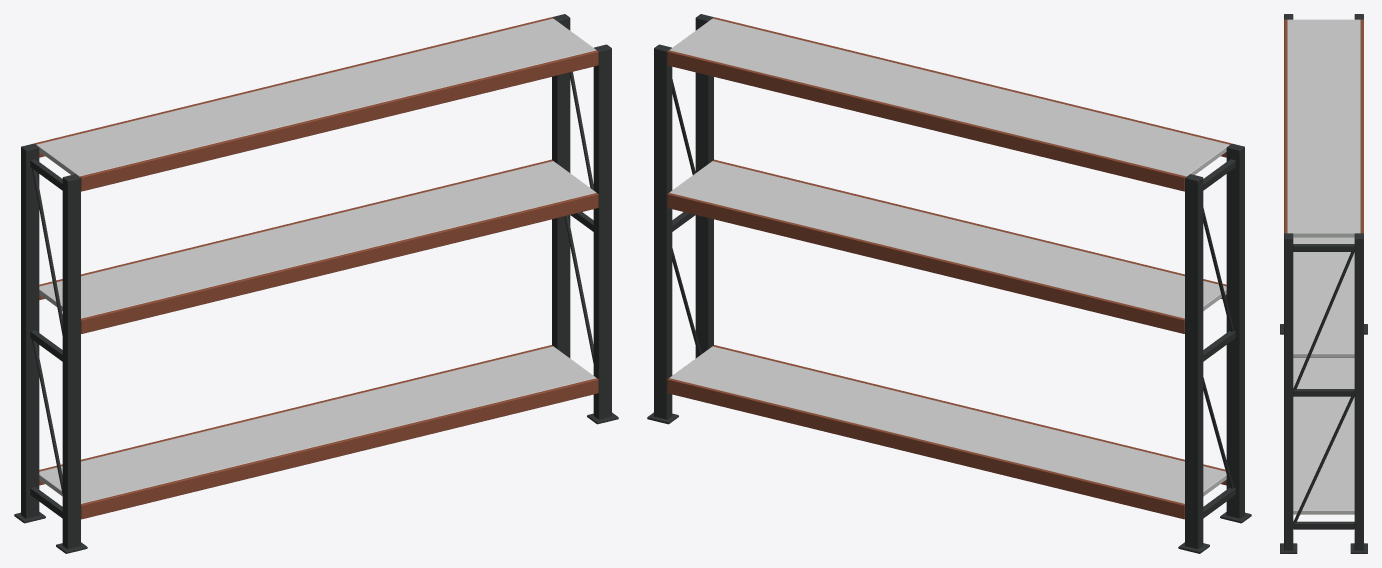
Rendered from two_sided_tote_shelving_body.glb.
3 renders of one model, left to right at view 1: azimuth 30°, elevation 25°; view 2: azimuth 150°, elevation 25°; view 3: azimuth 270°, elevation 25°, orthographic. The views are drawn at different scales.
Parts seen in each view (by area): view 1: two_sided_tote_shelving_body_steel, two_sided_tote_shelving_body_accent, two_sided_tote_shelving_body_graphite; view 2: two_sided_tote_shelving_body_steel, two_sided_tote_shelving_body_accent, two_sided_tote_shelving_body_graphite; view 3: two_sided_tote_shelving_body_steel, two_sided_tote_shelving_body_graphite, two_sided_tote_shelving_body_accent.
Part boxes in pixels (x1=…): two_sided_tote_shelving_body_steel: x1=36, y1=18, x2=596, y2=503; two_sided_tote_shelving_body_accent: x1=34, y1=17, x2=598, y2=519; two_sided_tote_shelving_body_graphite: x1=14, y1=14, x2=618, y2=553; two_sided_tote_shelving_body_steel: x1=669, y1=18, x2=1229, y2=503; two_sided_tote_shelving_body_accent: x1=667, y1=17, x2=1231, y2=519; two_sided_tote_shelving_body_graphite: x1=647, y1=14, x2=1251, y2=553; two_sided_tote_shelving_body_steel: x1=1287, y1=19, x2=1360, y2=514; two_sided_tote_shelving_body_graphite: x1=1280, y1=14, x2=1367, y2=553; two_sided_tote_shelving_body_accent: x1=1284, y1=19, x2=1363, y2=233.
Size of the model in its own units: 2.03 by 1.3 by 0.33.
